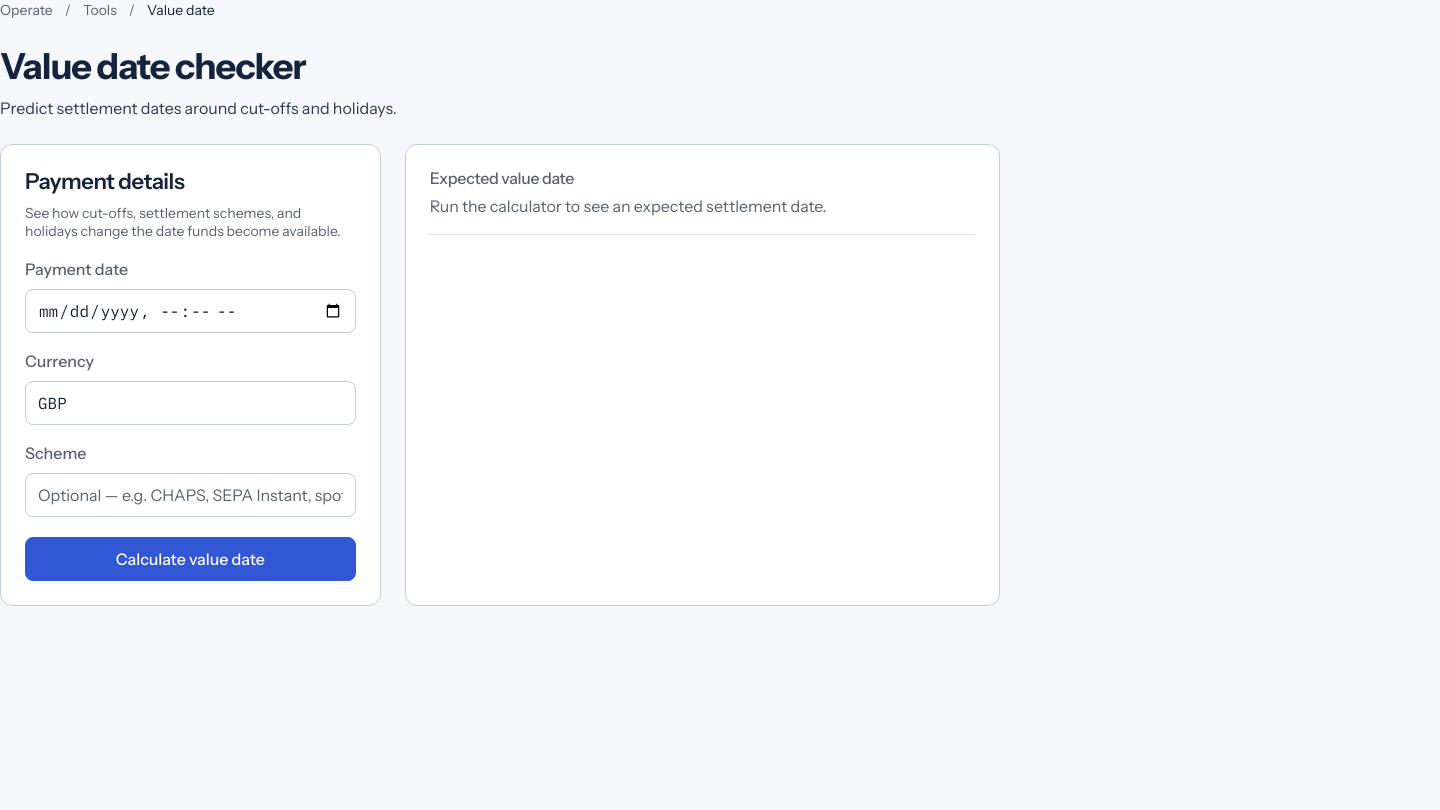
Test: ValueDatePage › shows the settlement date details and week legend from the response
Type "2026-05-14T12:00" into the field named "send date".
click(190, 311); type("2026-05-14T12:00")  # box [25,289,356,333]
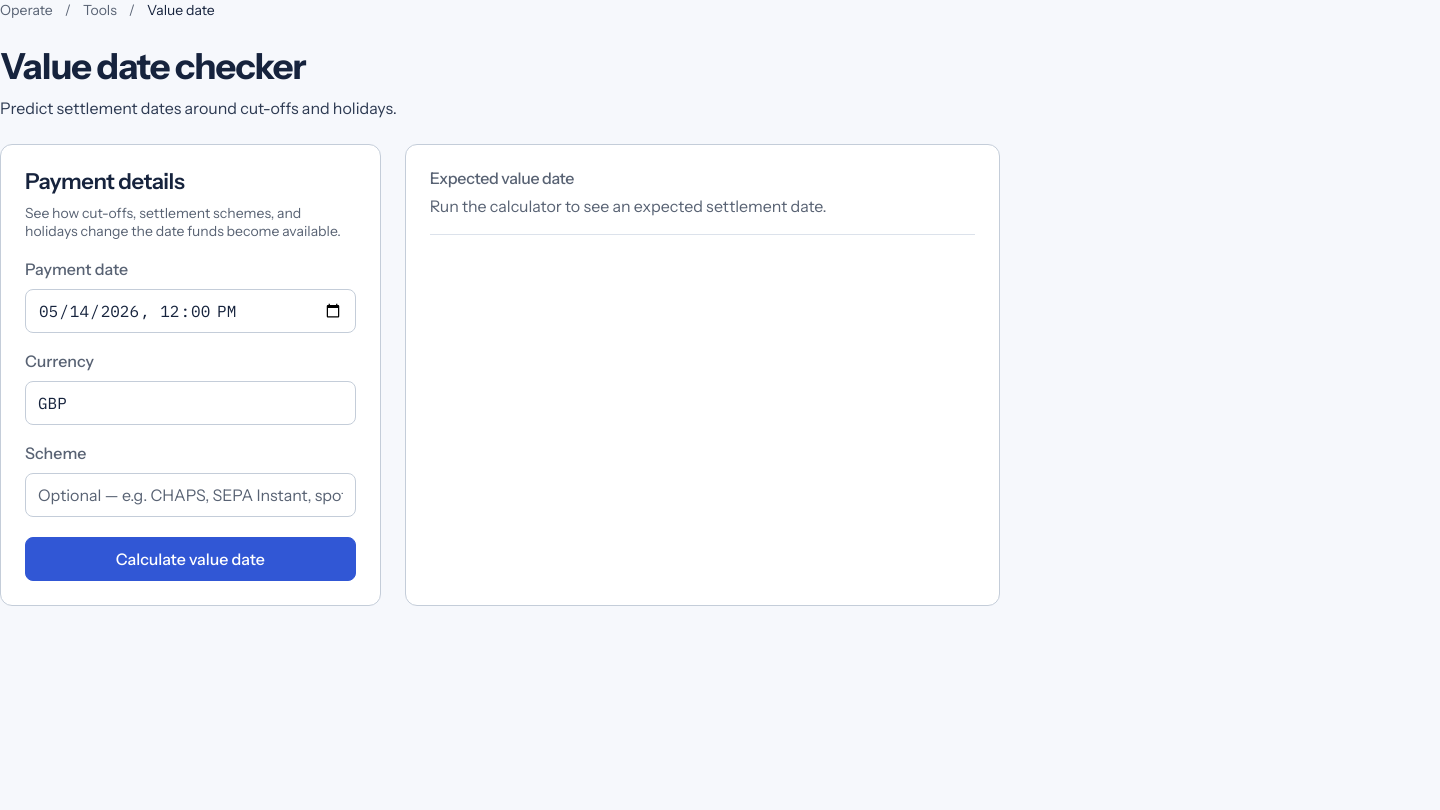
Click the button "Calculate value date".
click(190, 559)  # box [25,537,356,581]
(page scrolled)
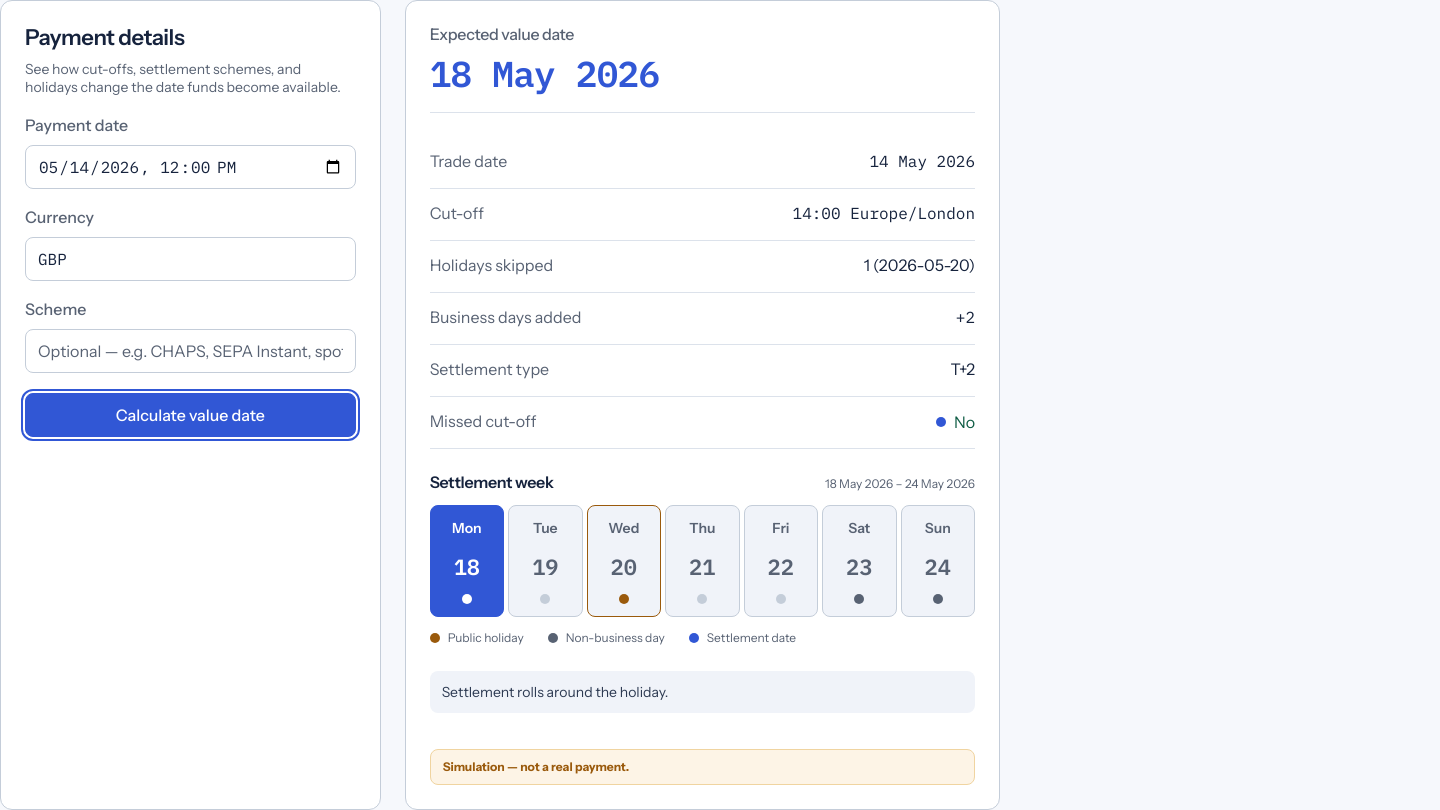
Check: the text "18 May 2026" is shown, box [430,50,659,97]
Check: the text "1 (2026-05-20)" is shown, box [864,255,975,275]
Check: the list named "settlement week days" is shown, box [430,505,975,617]
